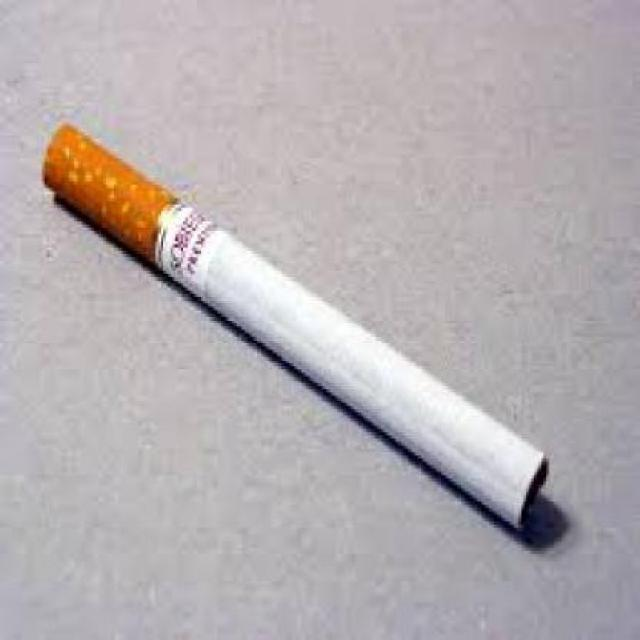cigarette: (24, 122, 570, 550)
